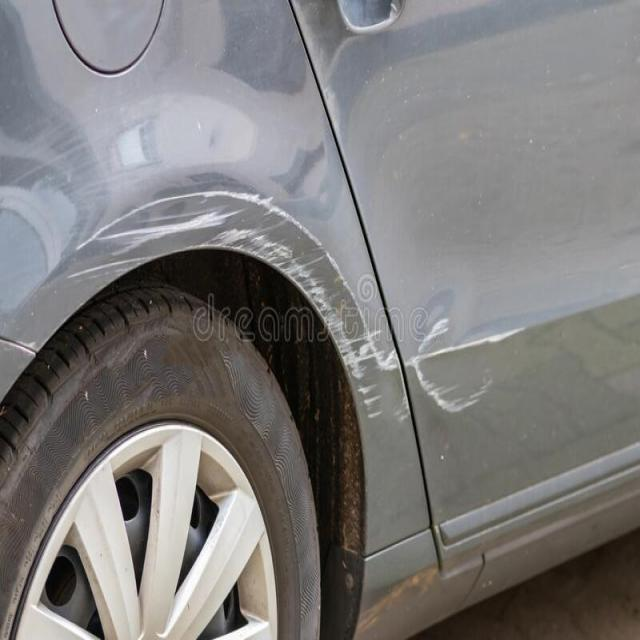doorouter-dent: (374, 6, 634, 592)
quaterpanel-dent: (0, 0, 316, 488), (135, 219, 372, 595)
